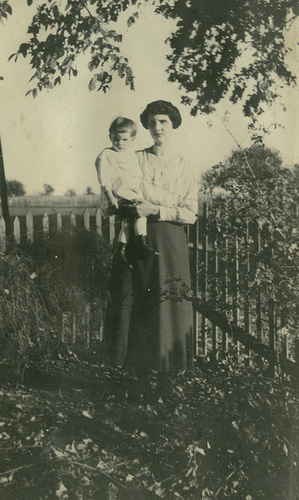without_mask: (146, 111, 177, 144), (107, 123, 136, 150)
